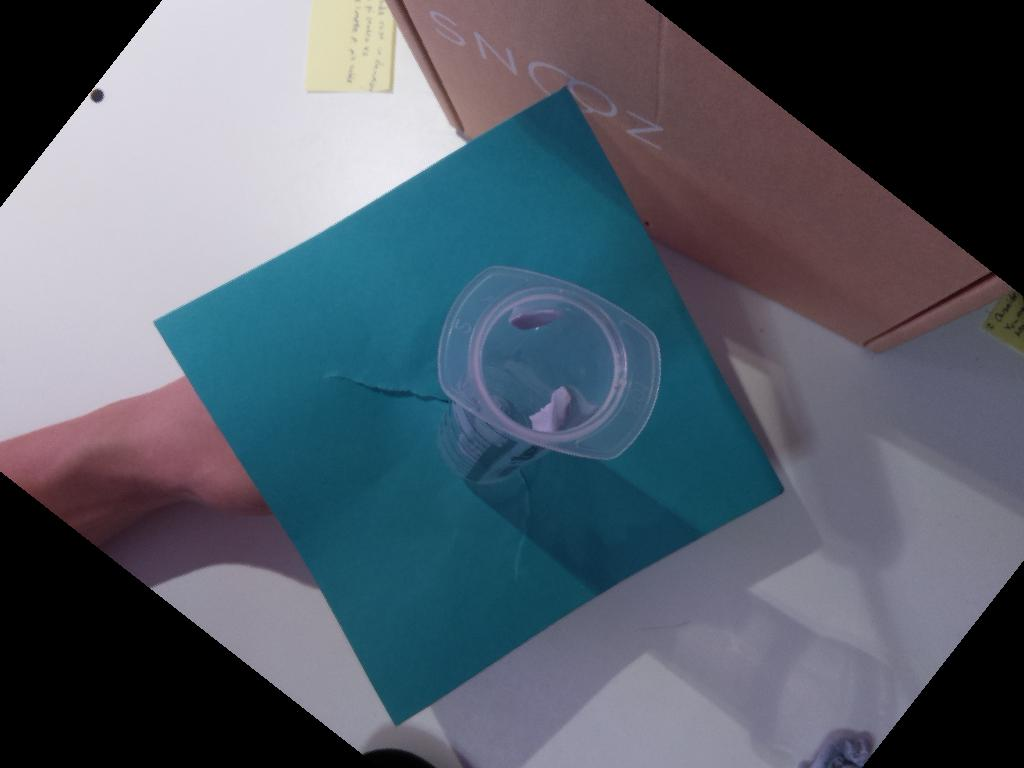dirty: (438, 263, 663, 460)
